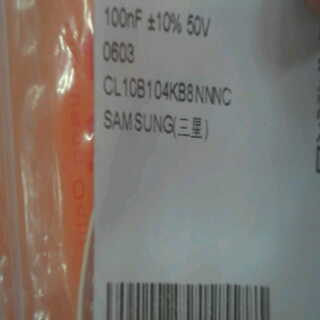100nF: (102, 1, 145, 35)
